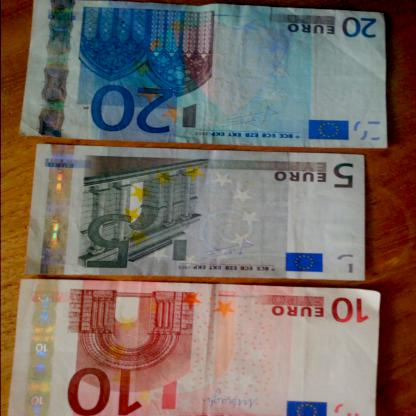euro_banknote: (8, 280, 380, 416), (24, 8, 392, 143), (29, 149, 368, 278)
